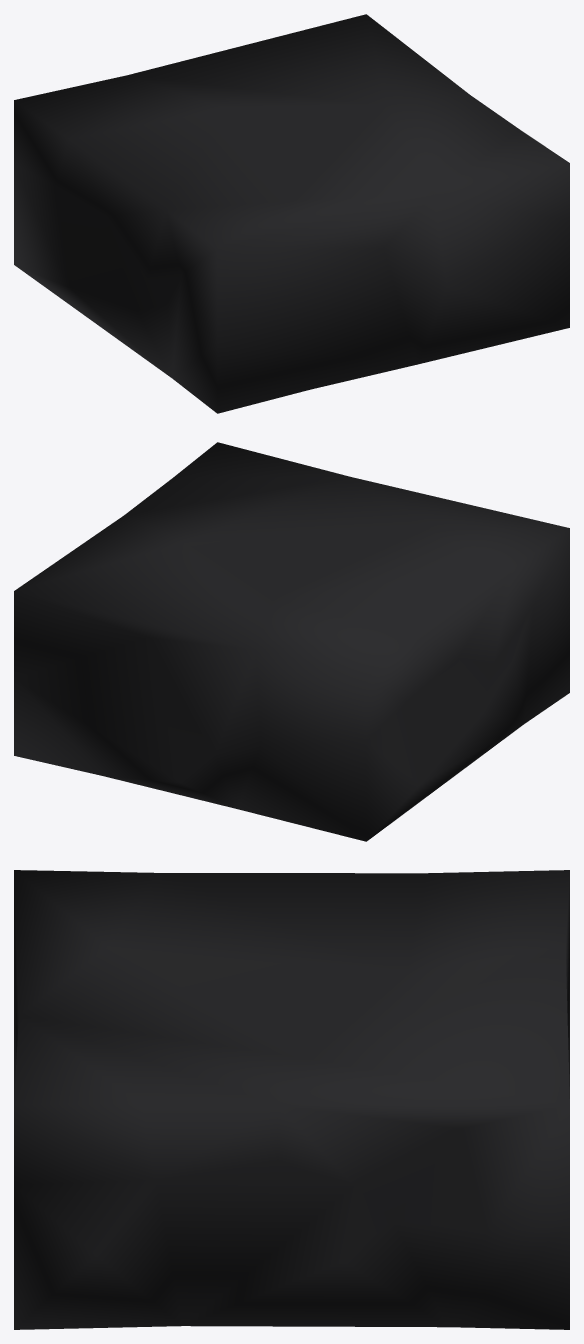
The model's file is underrock_1.glb.
3 views of the same model, one above another, from view 1: azimuth 30°, elevation 25°; view 2: azimuth 150°, elevation 25°; view 3: azimuth 270°, elevation 25° (orthographic). The views are drawn at different scales.
Parts seen in each view (by area): view 1: underrock_1; view 2: underrock_1; view 3: underrock_1.
Part boxes in pixels (box(x1,y1,x2,y2)): underrock_1: box(14, 14, 569, 413); underrock_1: box(14, 442, 569, 841); underrock_1: box(14, 870, 569, 1329).
Bounding box in the file's own units: 2.8 × 1.25 × 2.8.
Materials: 1 (1 with a texture image).
